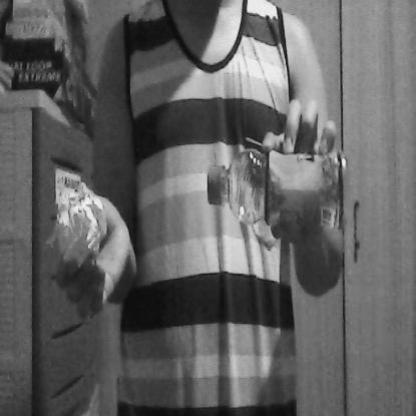Plastic Bottle: (202, 132, 352, 240)
